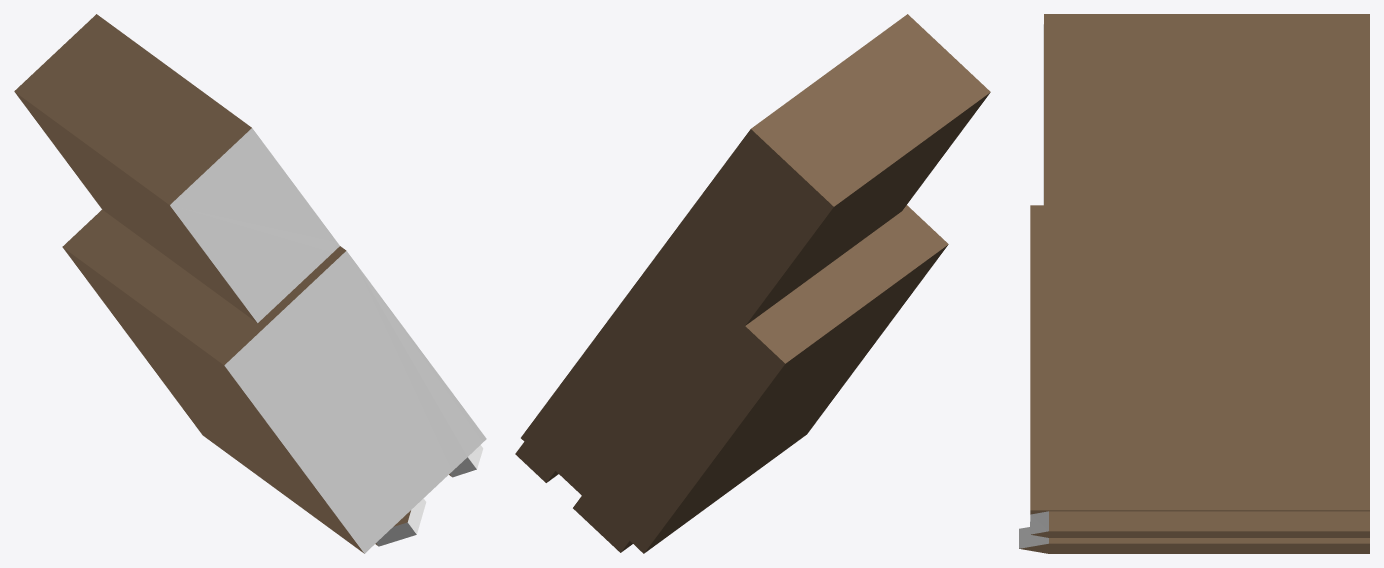
The picture shows the model from 3 angles, left to right: view 1: azimuth 30°, elevation 25°; view 2: azimuth 150°, elevation 25°; view 3: azimuth 270°, elevation 25°; orthographic projection. The views are drawn at different scales.
Parts seen in each view (by area): view 1: City_PC-08780; view 2: City_PC-08780; view 3: City_PC-08780.
Boxes of the visible parts, box(x1,y1,x2,y2) form: City_PC-08780: box(14, 14, 486, 553); City_PC-08780: box(515, 14, 990, 553); City_PC-08780: box(1019, 14, 1369, 553).
Bounding box in the file's own units: 1532 × 2094 × 1405.
